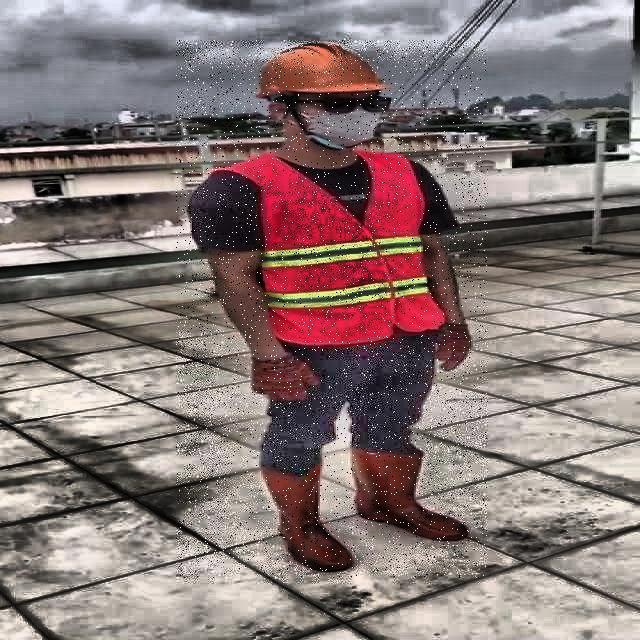safety_helmet: (247, 40, 395, 100)
safety_jacket: (259, 149, 441, 345)
